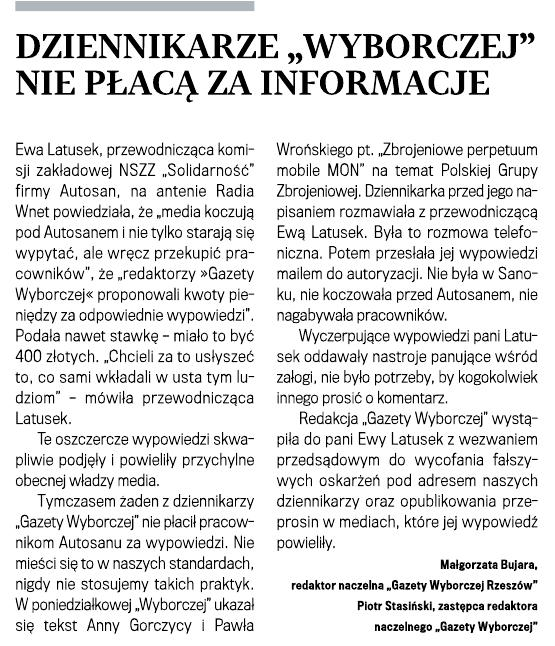author: (289, 556, 542, 639)
body: (8, 132, 263, 639), (275, 132, 544, 555)
title: (11, 22, 543, 107)
